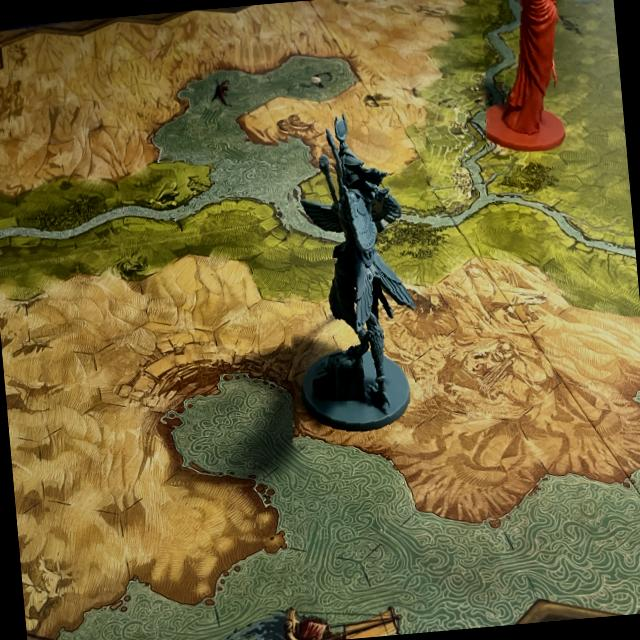amon: (474, 0, 586, 156)
isis: (270, 101, 448, 452)
